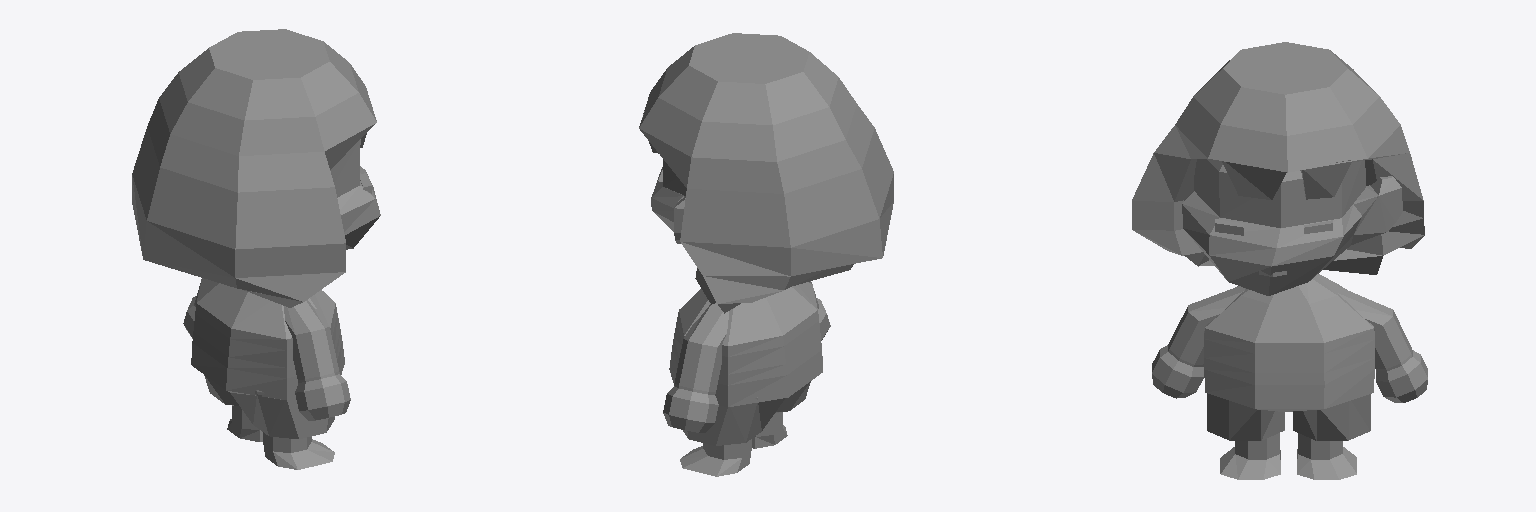
File: frisk.obj
3 views of the same model, side by side, from view 1: azimuth 30°, elevation 25°; view 2: azimuth 150°, elevation 25°; view 3: azimuth 270°, elevation 25° (orthographic).
Parts seen in each view (by area): view 1: obj1; view 2: obj1; view 3: obj1.
Part boxes in pixels (x1,y1,x2,y2): obj1: (132,29,380,469); obj1: (639,33,893,476); obj1: (1132,42,1427,479).
Bounding box in the file's own units: 2.16 × 3.54 × 2.44.